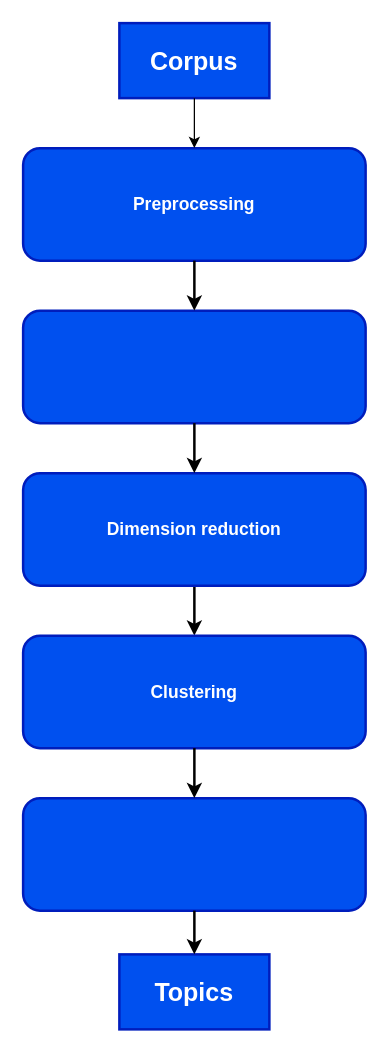
This 388x1051 diagram has some shape labels left out. The box of each missing label's shape, as (x1, y1, x2, y2) in pixels:
Embeddings techniques: (21, 309, 366, 424)
Topic representation using TF-IDF: (21, 796, 366, 911)
